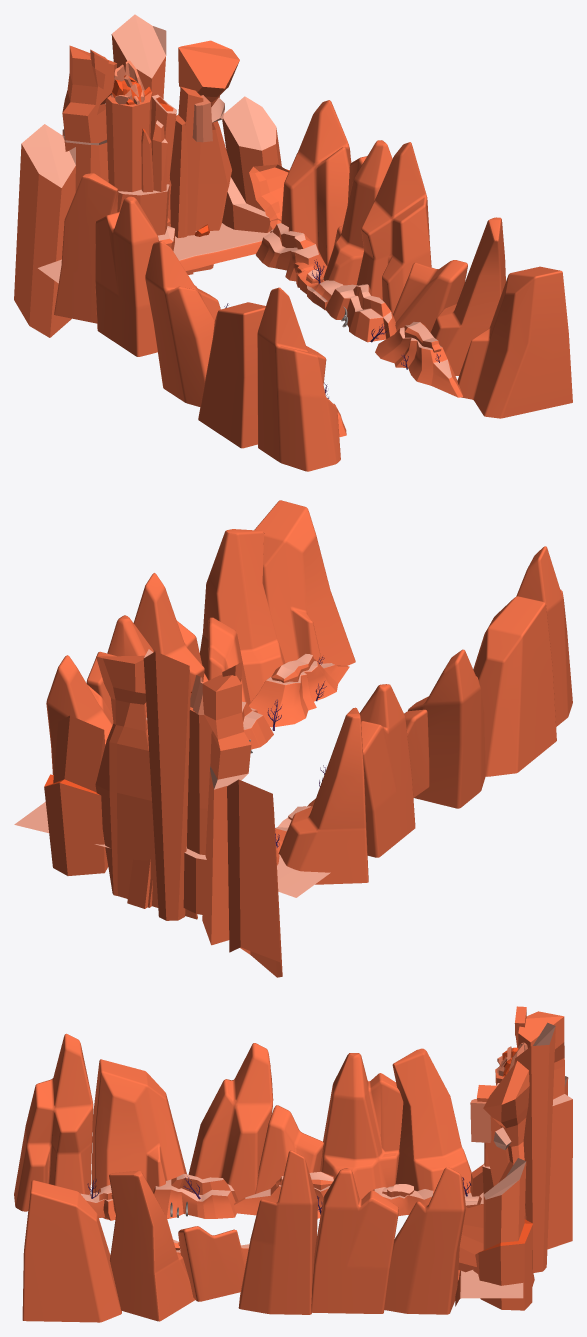
The picture shows the model from 3 angles, top to bottom: view 1: azimuth 30°, elevation 25°; view 2: azimuth 150°, elevation 25°; view 3: azimuth 270°, elevation 25°; orthographic projection. The views are drawn at different scales.
Visible parts, largest first — view 1: BG_base; view 2: BG_base; view 3: BG_base.
Boxes of the visible parts, <box> form: BG_base: <box>14,14,572,471</box>; BG_base: <box>14,500,572,977</box>; BG_base: <box>14,1006,572,1322</box>.
Bounding box in the file's own units: 19526 × 17543 × 31794.
